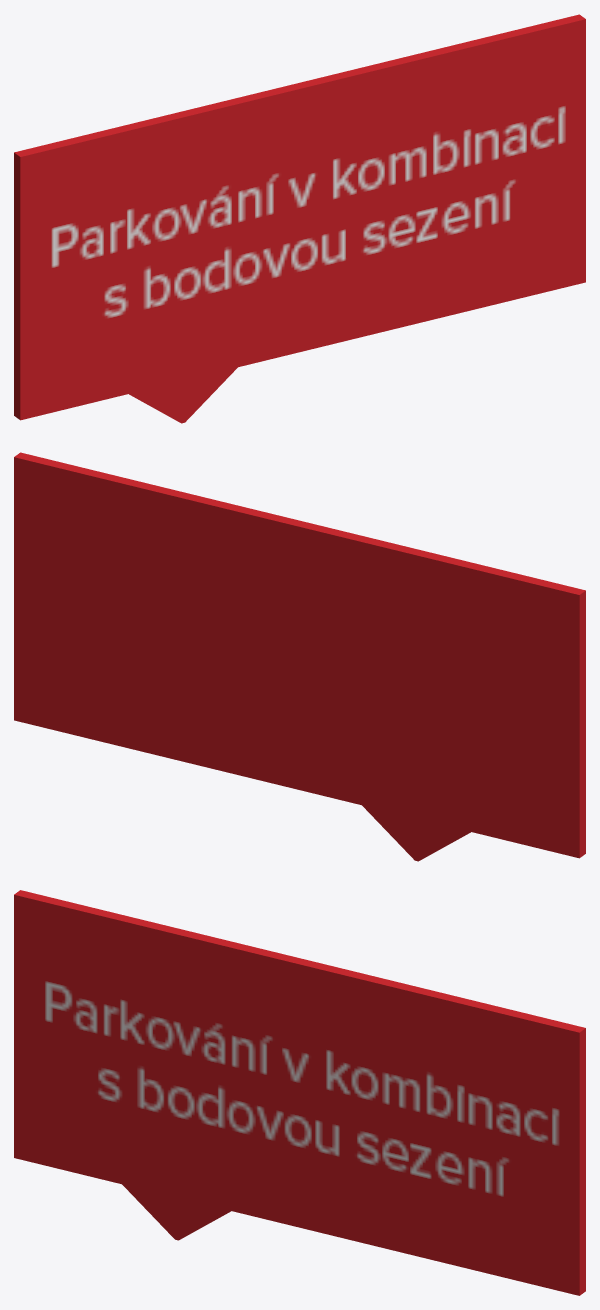
The model's file is sign4.glb.
3 views of the same model, one above another, from view 1: azimuth 30°, elevation 25°; view 2: azimuth 150°, elevation 25°; view 3: azimuth 330°, elevation 25° (orthographic).
Visible parts, largest first — view 1: sign-4-parkovani; view 2: sign-4-parkovani; view 3: sign-4-parkovani.
Part boxes in pixels (x1,y1,x2,y2): sign-4-parkovani: (14,14,585,423); sign-4-parkovani: (14,452,585,861); sign-4-parkovani: (14,890,585,1295).
Bounding box in the file's own units: 1.59 × 0.8188 × 0.0312.
Materials: 1 (1 with a texture image).
